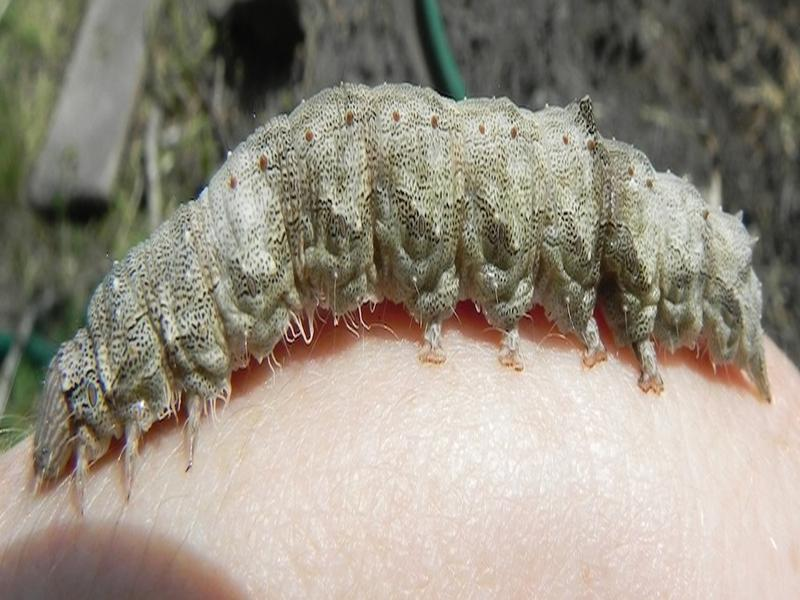Rice_horned_caterpillar: (34, 75, 784, 483)
